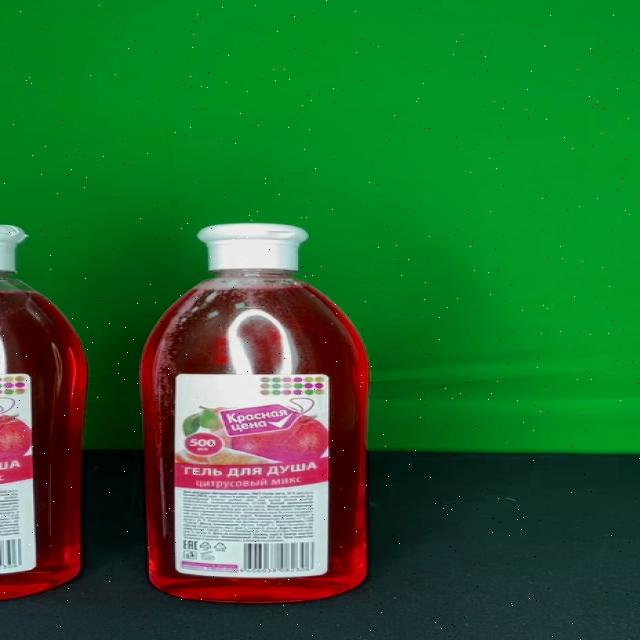Bottle: (138, 222, 367, 603)
Cap: (195, 223, 308, 272)
